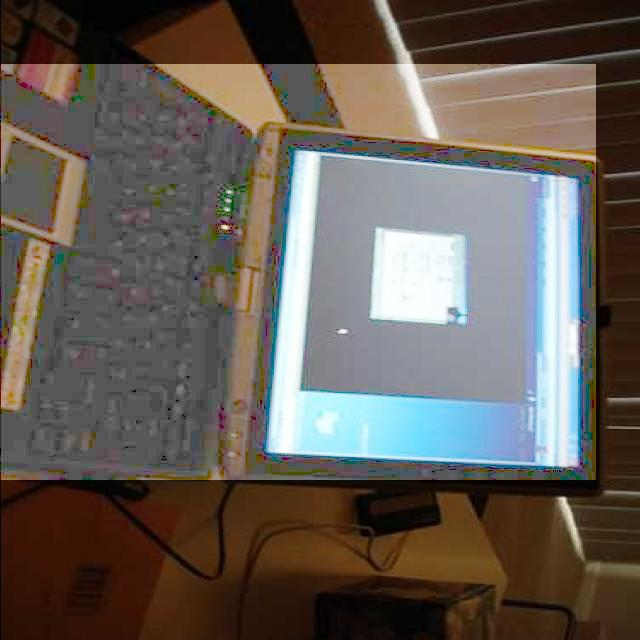-keyboard-: (0, 64, 596, 480)
